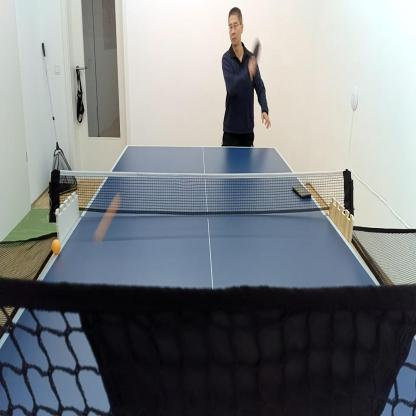Ball: (92, 190, 123, 246), (51, 237, 62, 256)
